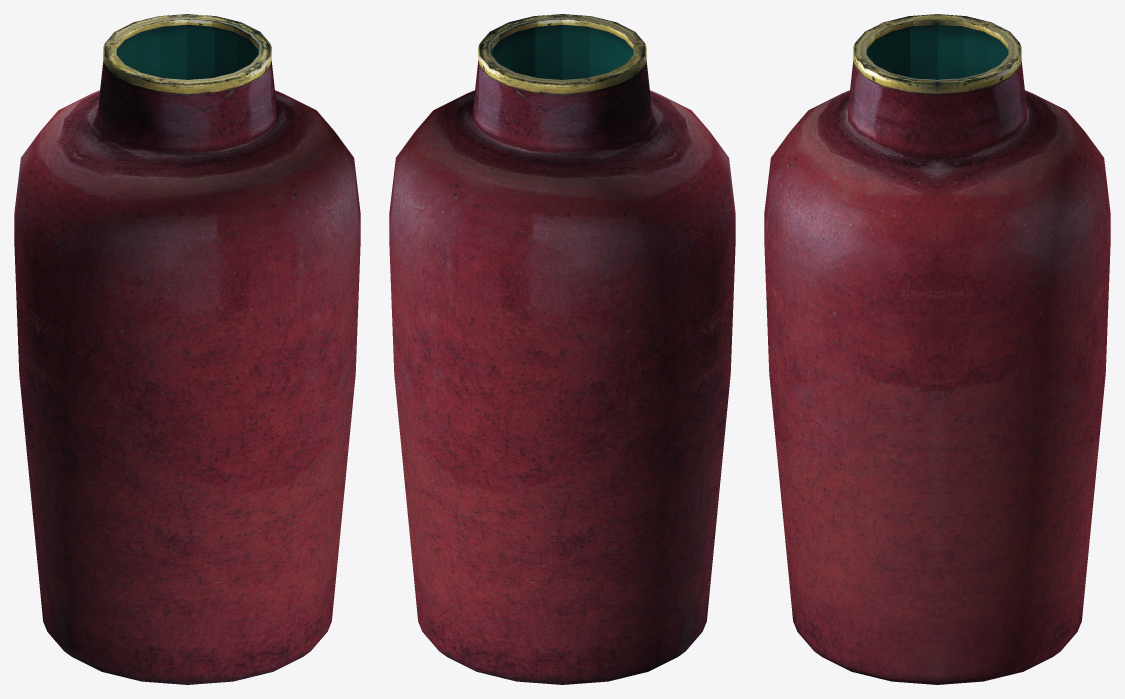
Rendered from BWG_CC_1.FBX.
3 renders of one model, left to right at view 1: azimuth 30°, elevation 25°; view 2: azimuth 150°, elevation 25°; view 3: azimuth 270°, elevation 25°, orthographic.
Visible parts, largest first — view 1: BWG_CC_1; view 2: BWG_CC_1; view 3: BWG_CC_1.
Boxes of the visible parts, x1,y1,x2,y2 form: BWG_CC_1: [14, 14, 360, 684]; BWG_CC_1: [389, 14, 735, 684]; BWG_CC_1: [764, 14, 1110, 684].
Bounding box in the file's own units: 30.11 × 54.72 × 29.66.
Materials: 1 (1 with a texture image).
